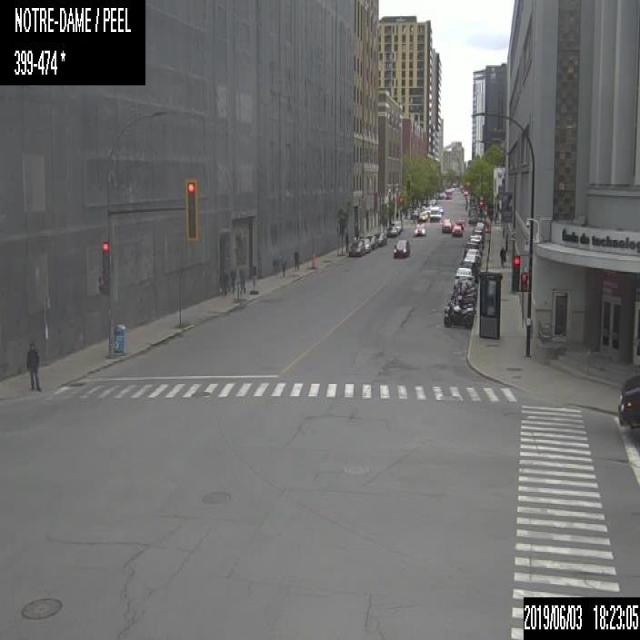bus: (444, 189, 452, 198)
construction: (249, 264, 258, 293), (310, 252, 316, 268)
pedestrian: (26, 340, 39, 392), (222, 267, 230, 296), (229, 267, 236, 294), (293, 244, 300, 269), (499, 242, 506, 266), (239, 268, 245, 295), (280, 253, 285, 276), (345, 229, 350, 252)
vehicle: (616, 373, 639, 436), (444, 308, 472, 328), (453, 266, 474, 288), (460, 259, 478, 281), (444, 302, 474, 314), (453, 293, 475, 309), (451, 286, 476, 300), (392, 236, 409, 256), (348, 239, 364, 256), (465, 248, 481, 264), (465, 242, 482, 254), (468, 234, 482, 248), (365, 234, 377, 248), (391, 219, 402, 233), (360, 237, 370, 252), (441, 217, 451, 232), (418, 208, 430, 220), (414, 222, 425, 235), (375, 232, 386, 245), (430, 206, 440, 219), (472, 225, 483, 236), (387, 225, 398, 236), (455, 218, 465, 230), (452, 225, 462, 235), (475, 221, 484, 229), (411, 208, 418, 218), (438, 205, 443, 212)
